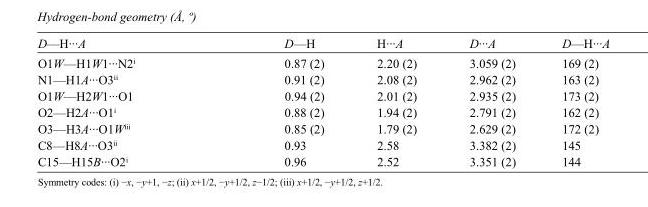table: (36, 36, 609, 168)
table column: (36, 36, 209, 168), (209, 36, 349, 168), (442, 36, 538, 168), (349, 36, 442, 168), (538, 36, 609, 168)
table row: (36, 53, 609, 71), (36, 36, 609, 53), (36, 103, 609, 120), (36, 136, 609, 153), (36, 71, 609, 87), (36, 87, 609, 103), (36, 120, 609, 136), (36, 153, 609, 168)
